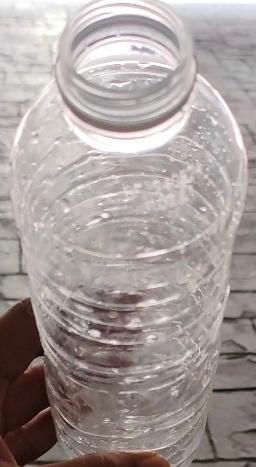plastic_bottle: (12, 0, 248, 467)
